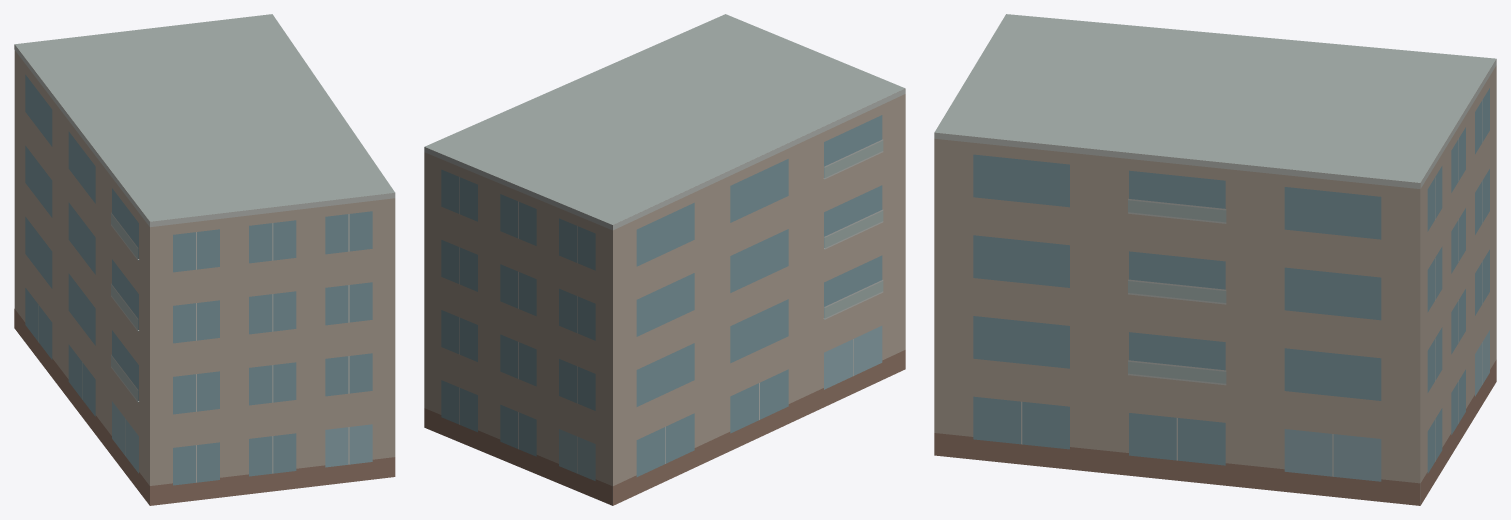
The model's file is survey-upis-32686284.glb.
The picture shows the model from 3 angles, left to right: view 1: azimuth 30°, elevation 25°; view 2: azimuth 150°, elevation 25°; view 3: azimuth 270°, elevation 25°; orthographic projection. The views are drawn at different scales.
Parts seen in each view (by area): view 1: survey-upis-32686284.tmp; view 2: survey-upis-32686284.tmp; view 3: survey-upis-32686284.tmp.
Part boxes in pixels (x1,y1,x2,y2): survey-upis-32686284.tmp: (14,14,395,505); survey-upis-32686284.tmp: (424,14,905,505); survey-upis-32686284.tmp: (934,14,1496,505).
Bounding box in the file's own units: 14.38 × 12.8 × 20.22.
